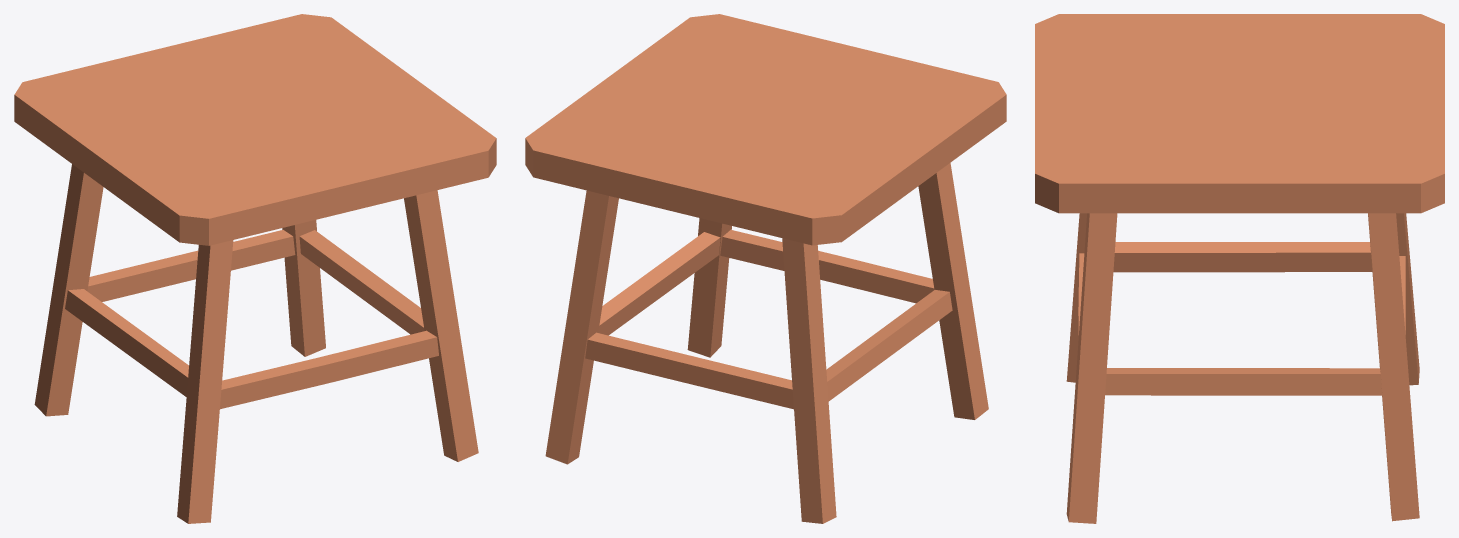
The model's file is SM_Furniture_Table_01.fbx.
3 views of the same model, side by side, from view 1: azimuth 30°, elevation 25°; view 2: azimuth 150°, elevation 25°; view 3: azimuth 270°, elevation 25° (orthographic). The views are drawn at different scales.
Parts seen in each view (by area): view 1: Table_01; view 2: Table_01; view 3: Table_01.
Part boxes in pixels (left/top/right/bottom): Table_01: left=14, top=14, right=496, bottom=523; Table_01: left=525, top=14, right=1006, bottom=523; Table_01: left=1035, top=14, right=1444, bottom=523.
Size of the model in its own units: 96.77 by 93.44 by 98.7.
